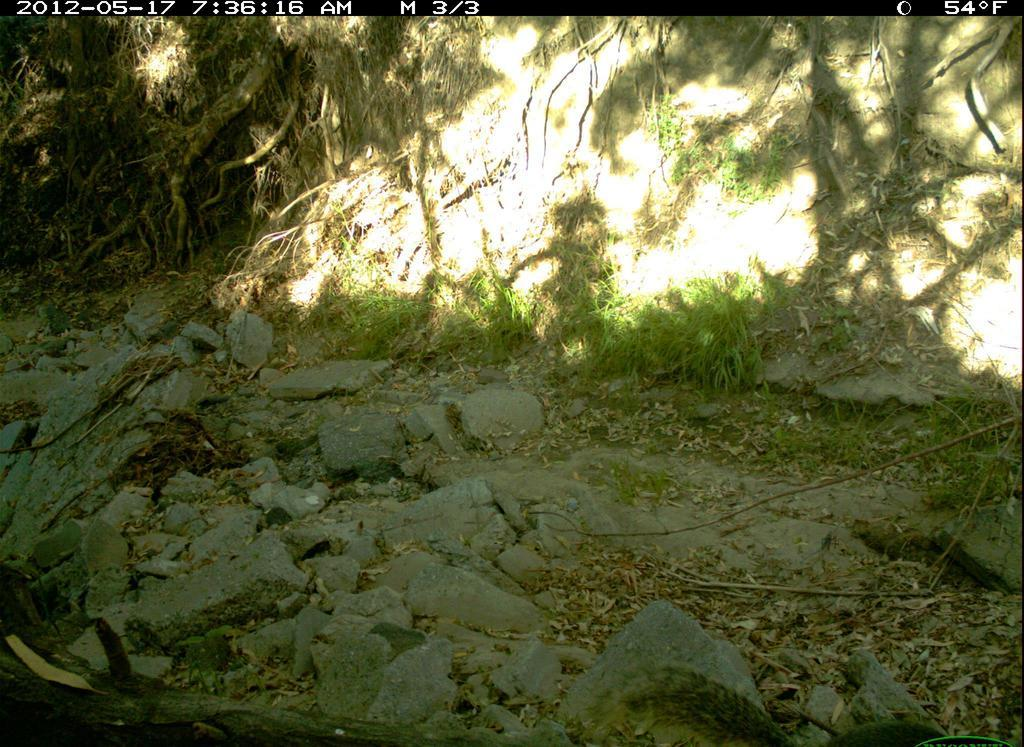squirrel: (614, 647, 973, 747)
